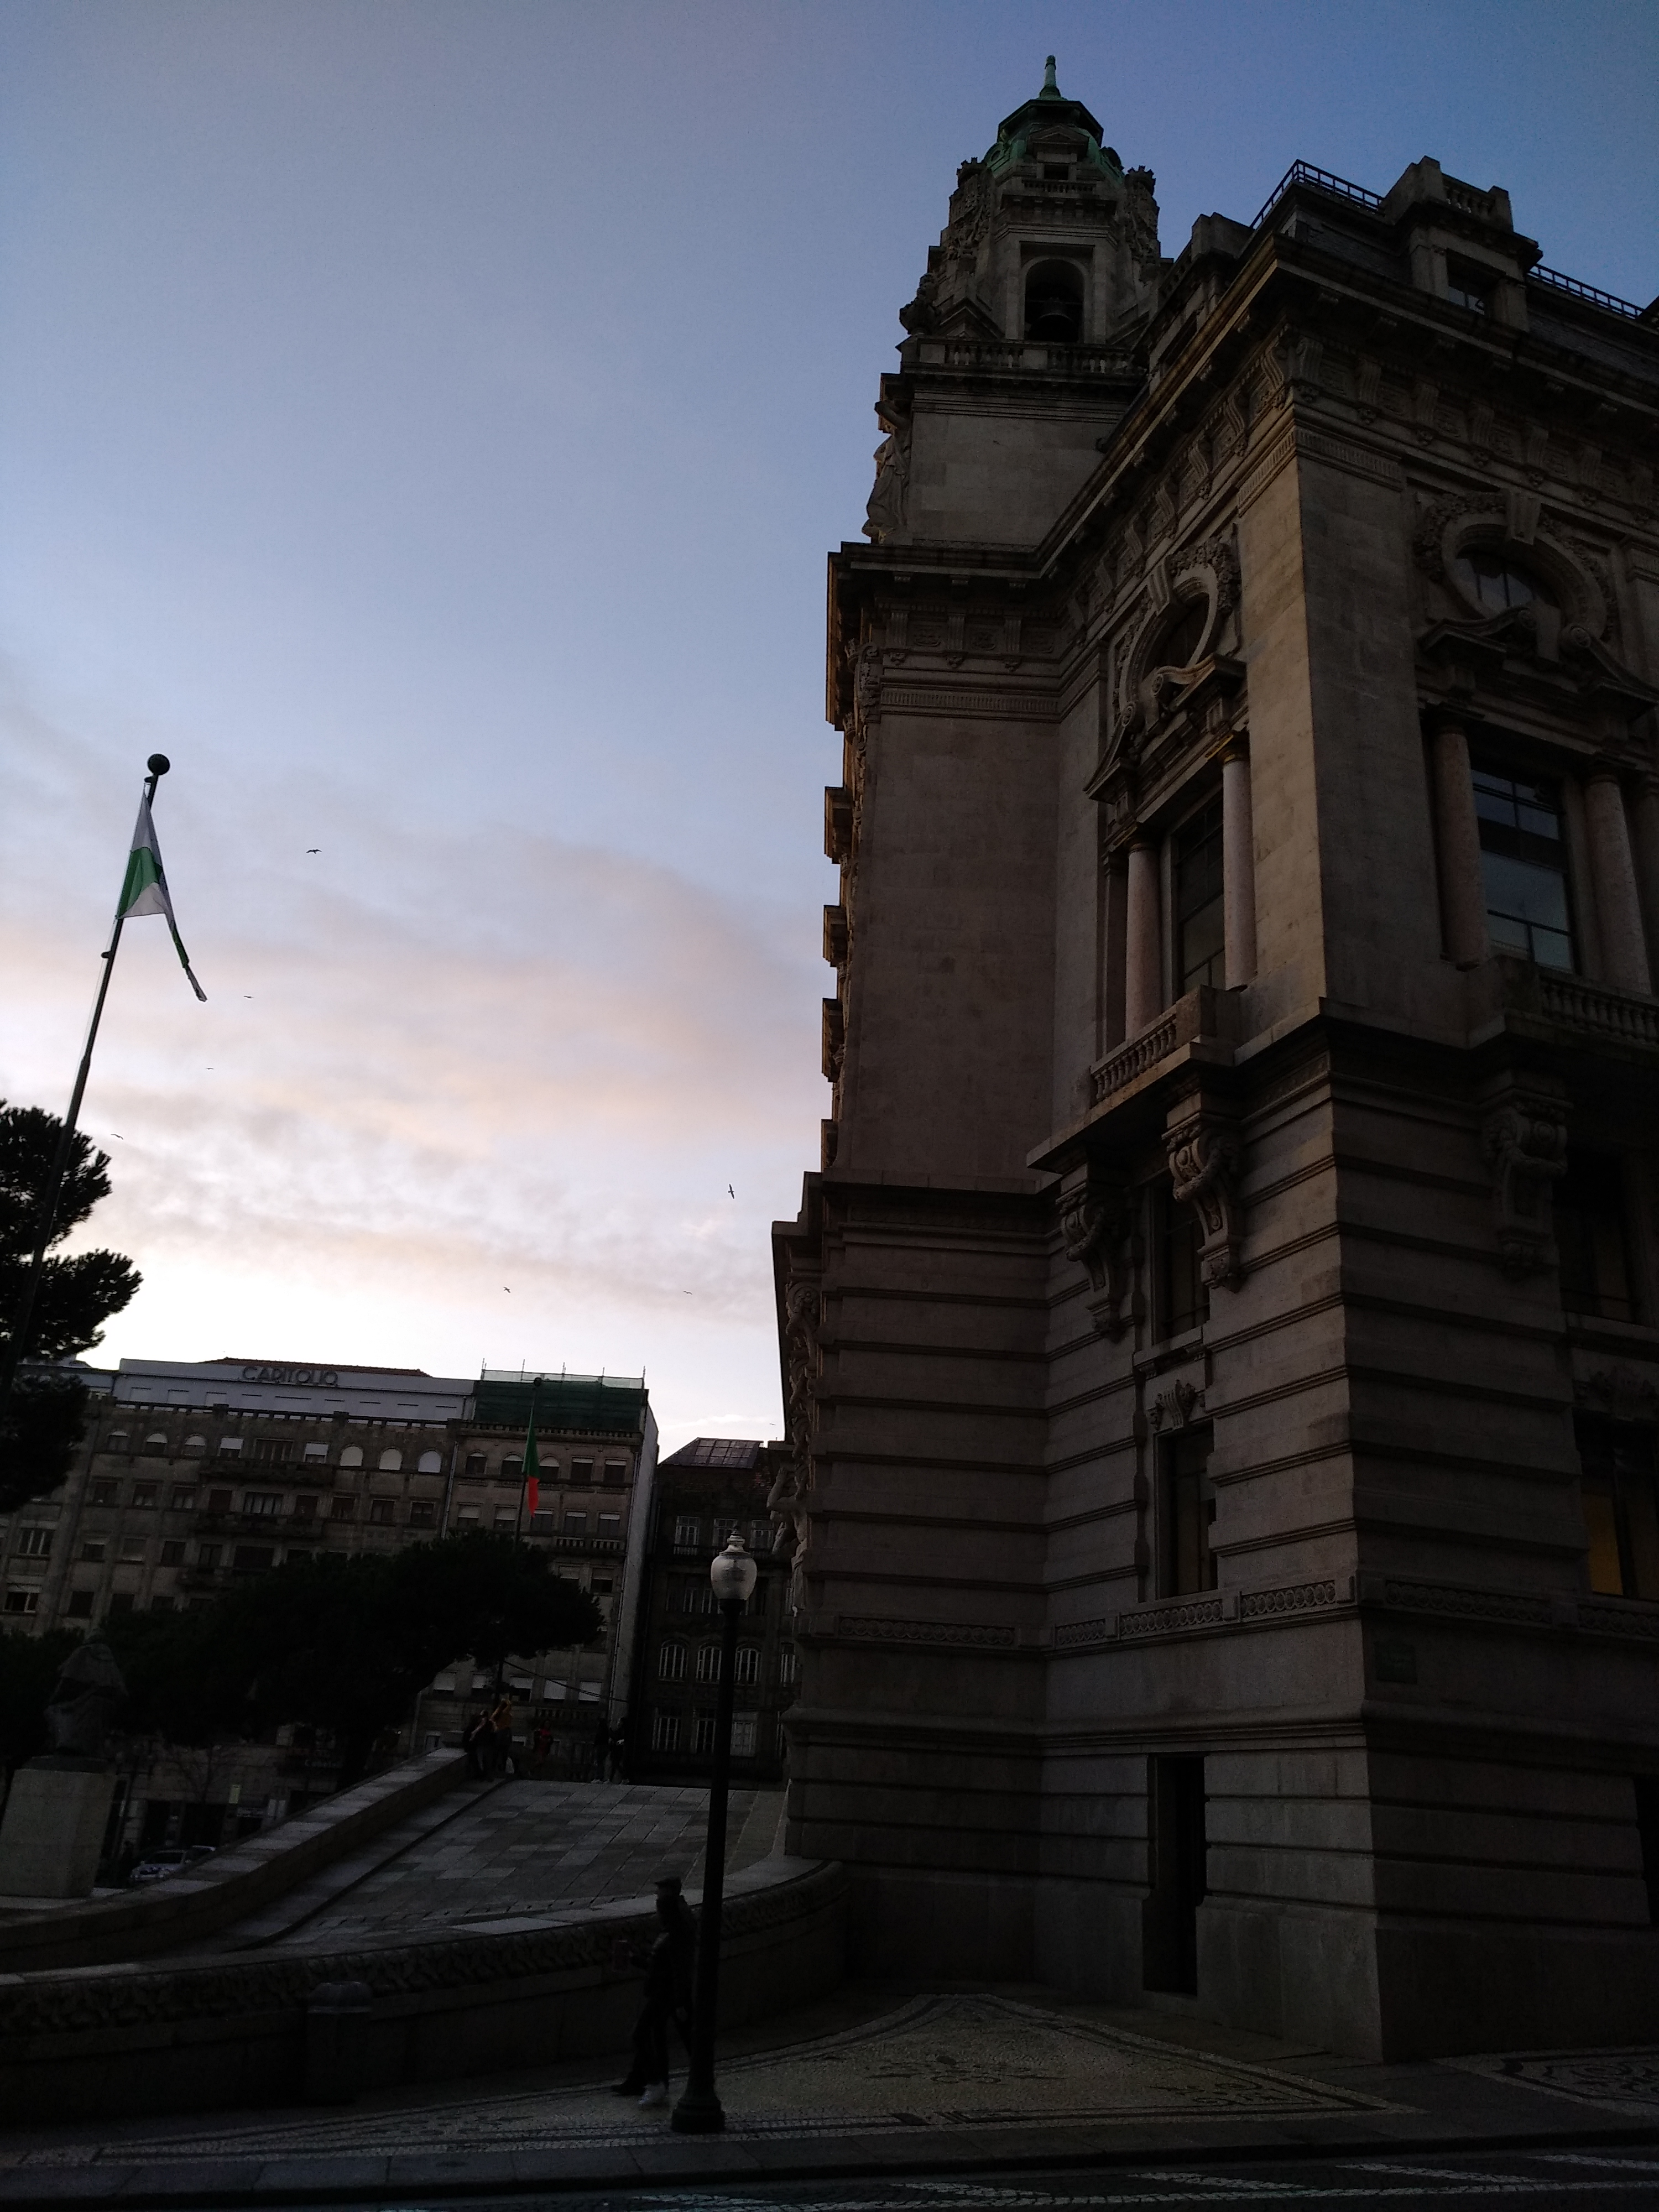camara: (755, 0, 904, 2041)
